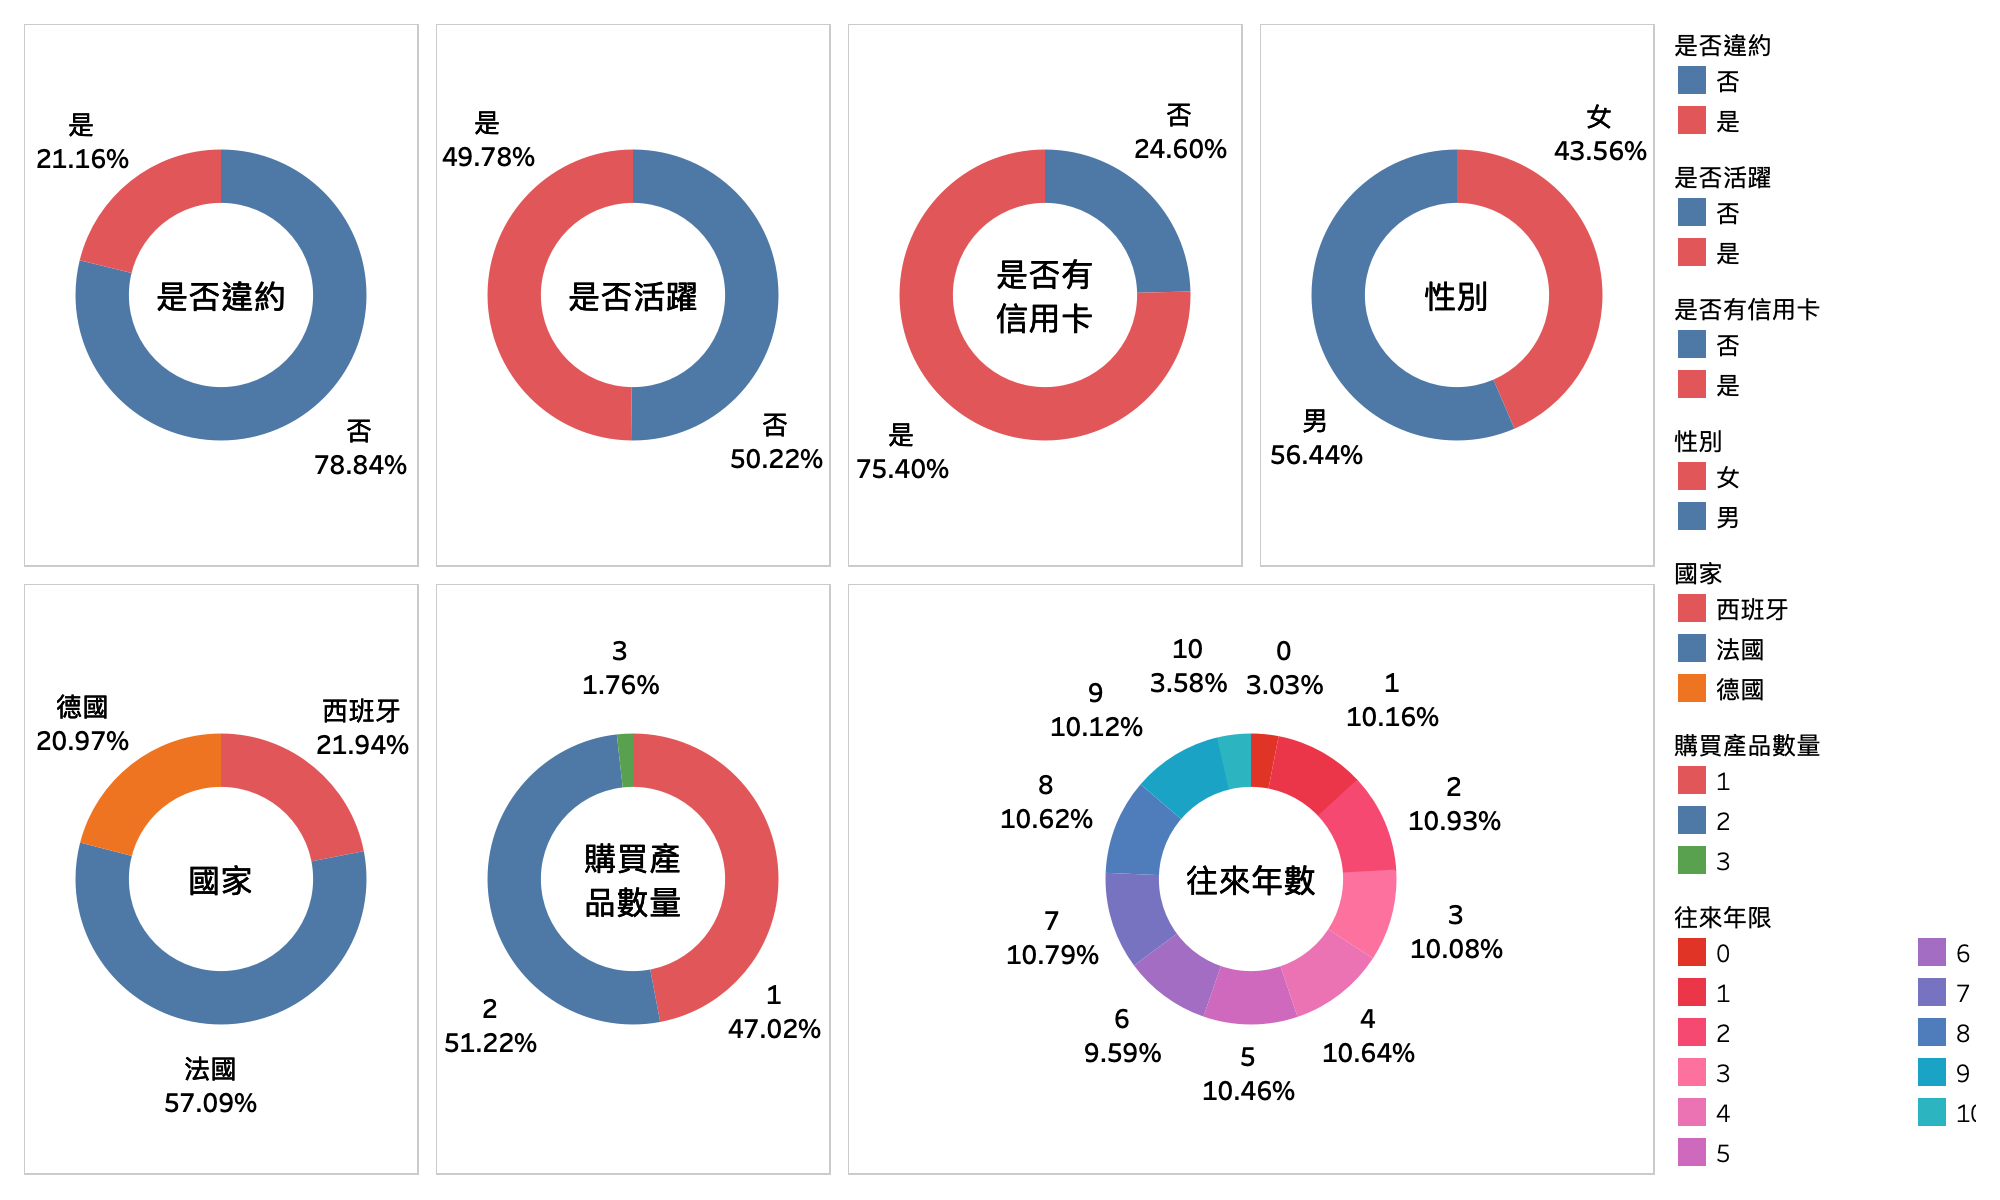

This screenshot's page, from the dashboard's own definition file:
{"tool":"tableau","page":{"name":"離散型資料","canvas":[1000,600],"ordinal":2},"visuals":[{"type":"worksheet","title":"是否違約","mark":"Pie","rows":["Calculation_494481215638294546"],"cols":["Calculation_494481215638290448","Calculation_494481215638298644"],"box":[8,8,206,280]},{"type":"worksheet","title":"是否活躍","mark":"Pie","rows":["Calculation_494481215638958104"],"cols":["Calculation_494481215638966297","Calculation_494481215638974491"],"box":[214,8,206,280]},{"type":"worksheet","title":"是否有信用卡","mark":"Pie","rows":["Calculation_494481215634685963"],"cols":["Calculation_494481215634681865","Calculation_494481215634702349"],"box":[419.9,8,206,280]},{"type":"worksheet","title":"性別","mark":"Pie","rows":["Calculation_494481215628988419"],"cols":["Calculation_494481215628980225","Calculation_494481215634599943"],"box":[626,8,206,280]},{"type":"legend","title":"是否違約","param":"[federated.1xja0wz0z15wzl14sofyg1w1r8ij].[none:Exited:ok]","box":[832,8,160,66]},{"type":"legend","title":"是否活躍","param":"[federated.1xja0wz0z15wzl14sofyg1w1r8ij].[none:IsActiveMember:ok]","box":[832,74,160,66]},{"type":"legend","title":"是否有信用卡","param":"[federated.1xja0wz0z15wzl14sofyg1w1r8ij].[none:HasCrCard:ok]","box":[832,140,160,66]},{"type":"legend","title":"性別","param":"[federated.1xja0wz0z15wzl14sofyg1w1r8ij].[none:Gender:nk]","box":[832,206,160,66]},{"type":"legend","title":"國家","param":"[federated.1xja0wz0z15wzl14sofyg1w1r8ij].[none:Geography:nk]","box":[832,272,160,86]},{"type":"worksheet","title":"國家","mark":"Pie","rows":["Calculation_494481215665823792"],"cols":["Calculation_494481215665823790","Calculation_494481215678042165"],"box":[8,288,206,304]},{"type":"worksheet","title":"產品數量","mark":"Pie","rows":["Calculation_494481215639371807"],"cols":["Calculation_494481215639367709","Calculation_494481215642345516"],"box":[214,288,206,304]},{"type":"worksheet","title":"往來年數","mark":"Pie","rows":["Calculation_494481215640133669"],"cols":["Calculation_494481215640125475","Calculation_494481215641067562"],"box":[419.9,288,412.1,304]},{"type":"legend","title":"產品數量","param":"[federated.1xja0wz0z15wzl14sofyg1w1r8ij].[none:NumOfProducts:ok]","box":[832,358,160,86]},{"type":"legend","title":"往來年數","param":"[federated.1xja0wz0z15wzl14sofyg1w1r8ij].[none:Tenure:ok]","box":[832,444,160,148]}]}

Visuals, with their boxes in screenshot pixels (x1, y1, x2, y2), scaled from the page's 1000x600 canvas onto the 2000x1200 screenshot:
"是否違約" worksheet (Pie marks): region(16, 16, 428, 576)
"是否活躍" worksheet (Pie marks): region(428, 16, 840, 576)
"是否有信用卡" worksheet (Pie marks): region(840, 16, 1252, 576)
"性別" worksheet (Pie marks): region(1252, 16, 1664, 576)
"是否違約" legend: region(1664, 16, 1984, 148)
"是否活躍" legend: region(1664, 148, 1984, 280)
"是否有信用卡" legend: region(1664, 280, 1984, 412)
"性別" legend: region(1664, 412, 1984, 544)
"國家" legend: region(1664, 544, 1984, 716)
"國家" worksheet (Pie marks): region(16, 576, 428, 1184)
"產品數量" worksheet (Pie marks): region(428, 576, 840, 1184)
"往來年數" worksheet (Pie marks): region(840, 576, 1664, 1184)
"產品數量" legend: region(1664, 716, 1984, 888)
"往來年數" legend: region(1664, 888, 1984, 1184)
